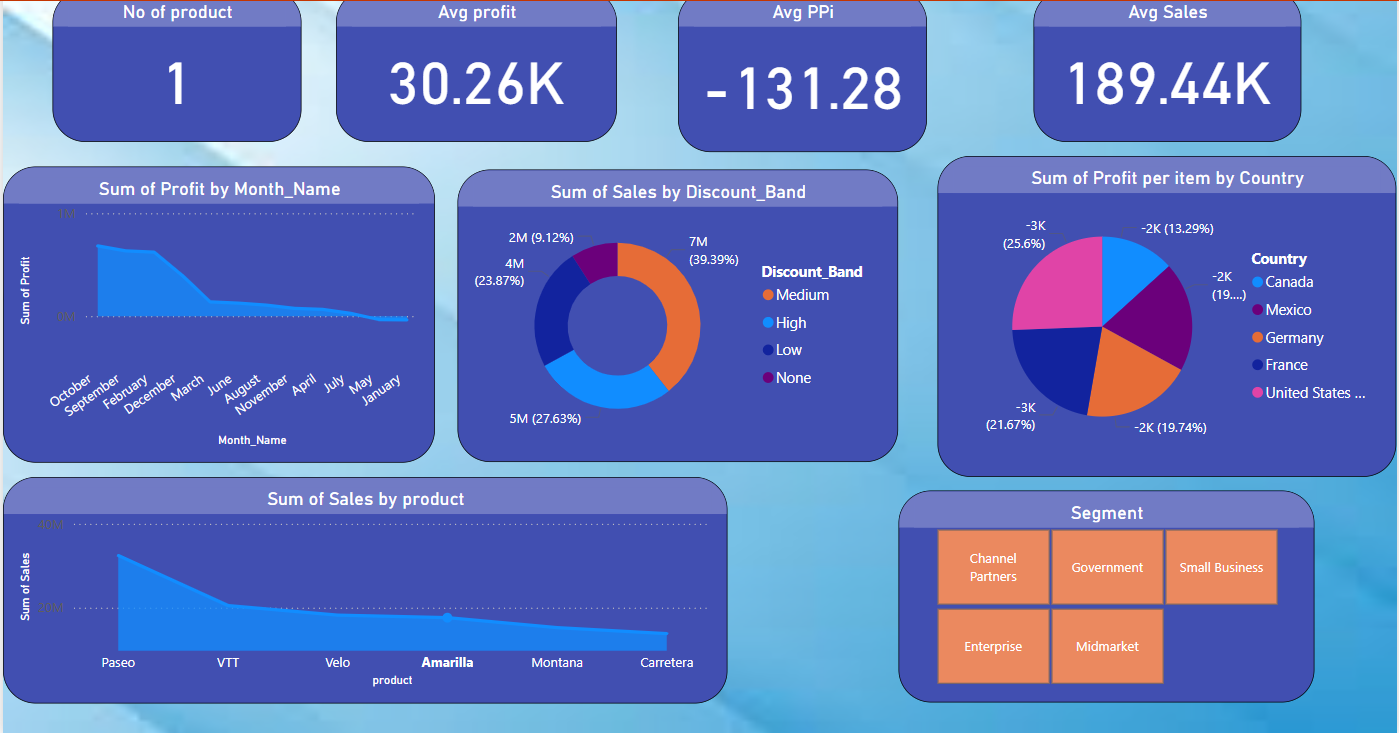

The page's visual inventory and layout, read from the dashboard file:
{"tool":"powerbi","page":{"name":"Page 1","canvas":[1280,720],"ordinal":0},"visuals":[{"type":"card","title":"No of product","fields":{"Values":["Count(Fin (2).product)"]},"box":[45.4,34,228.7,139.8],"z":0},{"type":"card","title":"Avg profit","fields":{"Values":["Avg(Fin (2).Profit)"]},"box":[306.3,34.2,258.1,139.9],"z":1000},{"type":"card","title":"Avg PPi","fields":{"Values":["Avg(Fin (2).Profit per item)"]},"box":[620.3,34.2,228.5,149.2],"z":1001},{"type":"areaChart","fields":{"Y":["Sum(Fin (2).Profit)"],"Category":["Fin (2).Month_Name"]},"box":[0,196.5,396.9,272.1],"z":1002},{"type":"pieChart","fields":{"Category":["Fin (2).Country"],"Y":["Sum(Fin (2).Profit per item)"]},"box":[858,187.1,421.4,294.8],"z":1003},{"type":"donutChart","fields":{"Category":["Fin (2).Discount_Band"],"Y":["Sum(Fin (2).Sales)"]},"box":[417.6,200.3,404.4,268.3],"z":1004},{"type":"lineChart","fields":{"Category":["Fin (2).product"],"Y":["Sum(Fin (2).Sales)"]},"box":[0,481.9,665.2,207.9],"z":1005},{"type":"slicer","title":"Segment","fields":{"Values":["Fin (2).Segment"]},"box":[822.1,495.1,381.7,194.6],"z":1006},{"type":"card","title":"Avg Sales","fields":{"Values":["Avg(Fin (2).Sales)"]},"box":[946.8,34,245.7,139.8],"z":1007}]}

Visuals, with their boxes in screenshot pixels (x1, y1, x2, y2):
"No of product" card: (x1=56, y1=0, x2=303, y2=140)
"Avg profit" card: (x1=338, y1=0, x2=616, y2=140)
"Avg PPi" card: (x1=676, y1=0, x2=922, y2=150)
areaChart - Sum(Fin (2).Profit) x Fin (2).Month_Name: (x1=7, y1=164, x2=435, y2=458)
pieChart - Fin (2).Country x Sum(Fin (2).Profit per item): (x1=932, y1=154, x2=1387, y2=472)
donutChart - Fin (2).Discount_Band x Sum(Fin (2).Sales): (x1=458, y1=169, x2=893, y2=458)
lineChart - Fin (2).product x Sum(Fin (2).Sales): (x1=7, y1=472, x2=724, y2=696)
"Segment" slicer: (x1=894, y1=486, x2=1305, y2=696)
"Avg Sales" card: (x1=1028, y1=0, x2=1293, y2=140)
